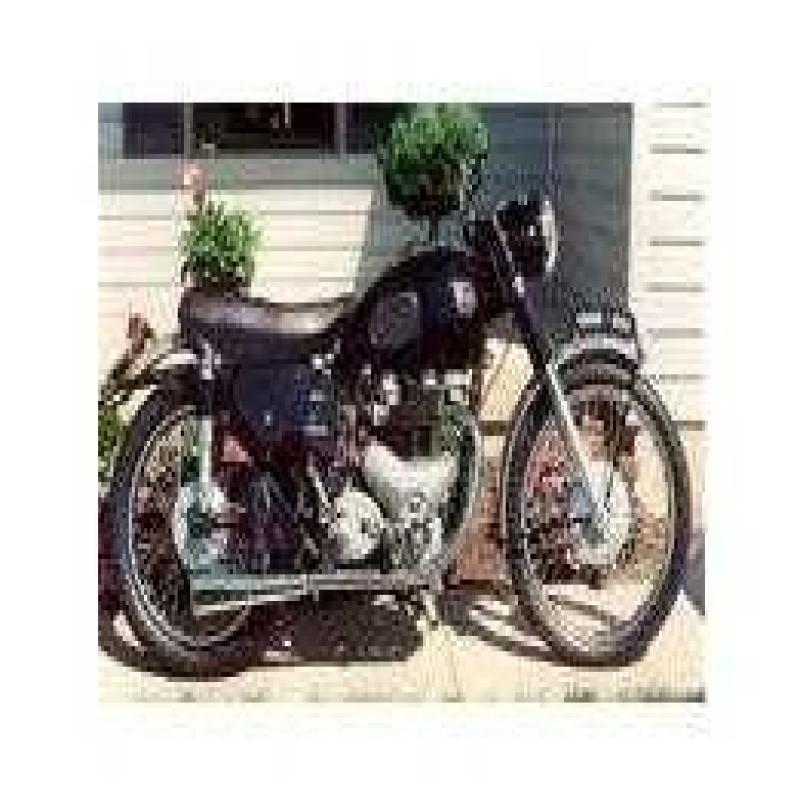bike: (109, 91, 701, 686)
